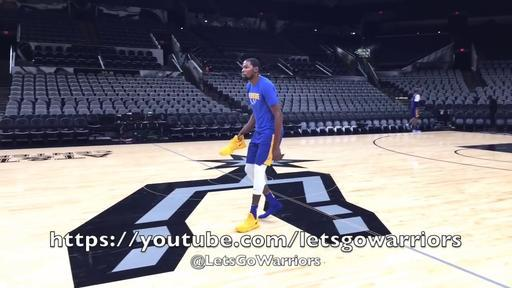human: (218, 56, 284, 234)
